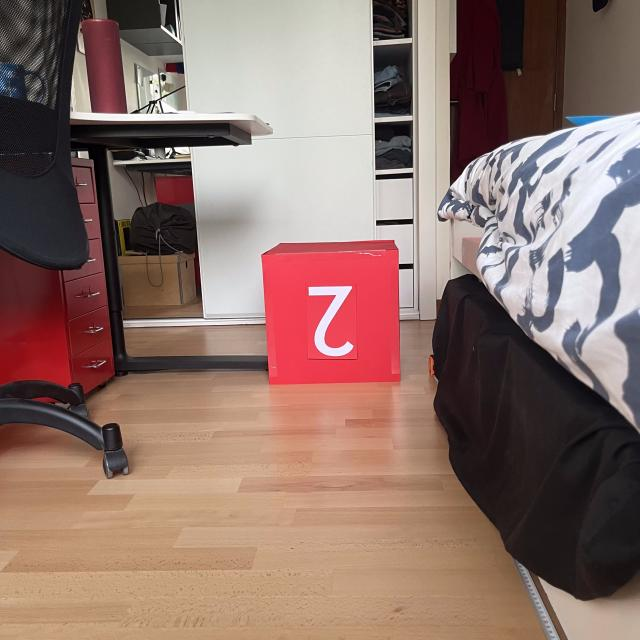box: (257, 236, 404, 387)
